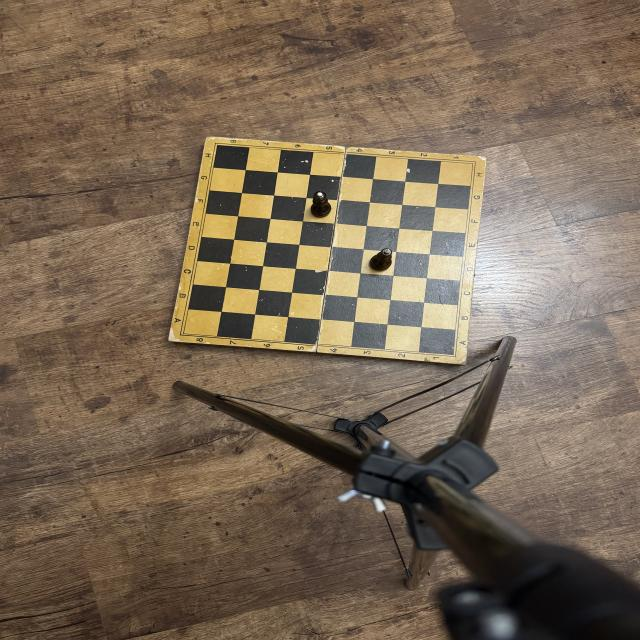black-king: (369, 248, 393, 272)
black-queen: (310, 190, 332, 218)
